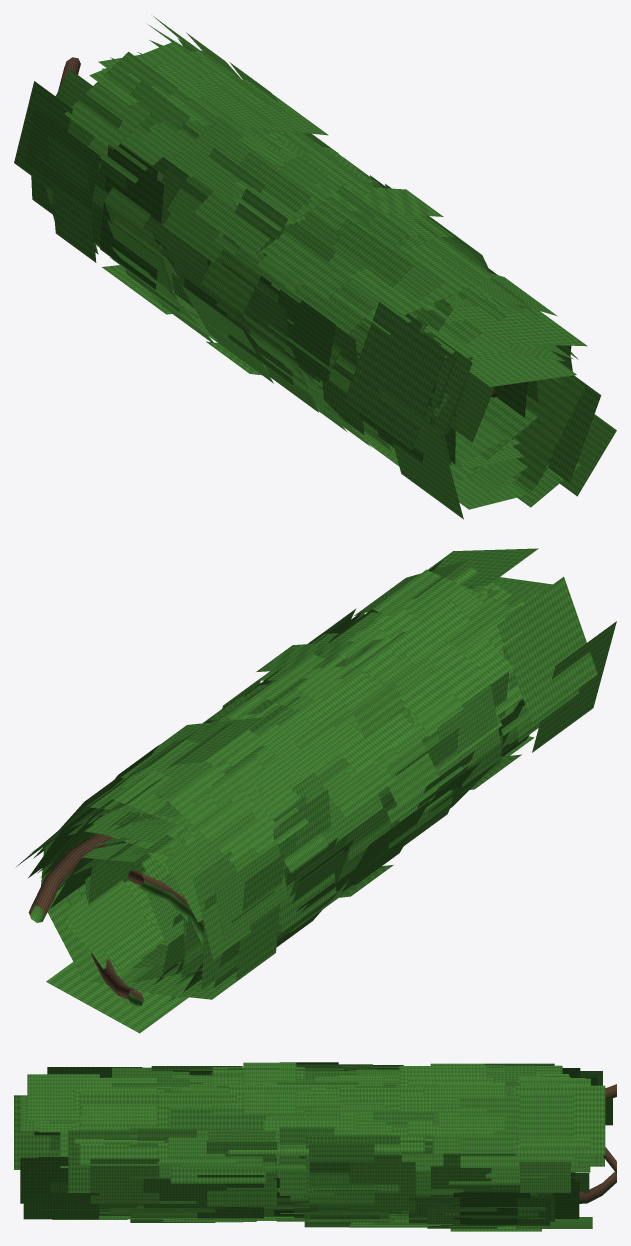
Rendered from veg_epiphyte_spanishmoss_01.obj.
3 views of the same model, one above another, from view 1: azimuth 30°, elevation 25°; view 2: azimuth 150°, elevation 25°; view 3: azimuth 270°, elevation 25° (orthographic). The views are drawn at different scales.
Visible parts, largest first — view 1: veg_epiphyte_spanishmoss_01; view 2: veg_epiphyte_spanishmoss_01; view 3: veg_epiphyte_spanishmoss_01.
Boxes of the visible parts, x1,y1,x2,y2 form: veg_epiphyte_spanishmoss_01: [14, 16, 616, 519]; veg_epiphyte_spanishmoss_01: [16, 548, 616, 1033]; veg_epiphyte_spanishmoss_01: [14, 1062, 616, 1231].
Bounding box in the file's own units: 0.4467 × 0.4518 × 1.6.
Materials: 1 (1 with a texture image).
